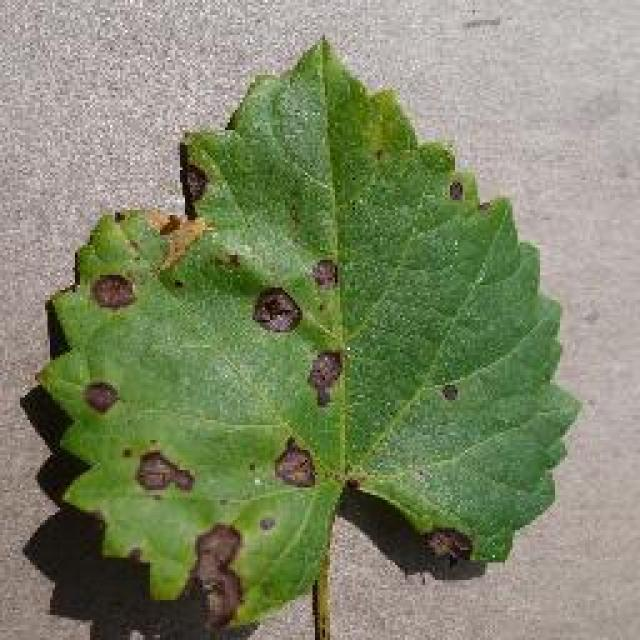Grape___Black_rot: (30, 27, 588, 638)
